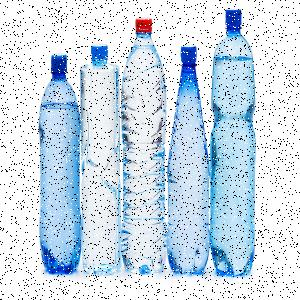Plastic-bottle: (209, 8, 260, 279), (121, 17, 168, 279), (168, 43, 212, 280), (81, 44, 123, 278), (38, 53, 81, 275)
